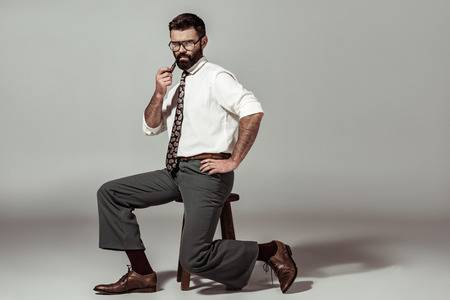F_shirt: (140, 56, 265, 156)
F_tie: (164, 81, 185, 169)
